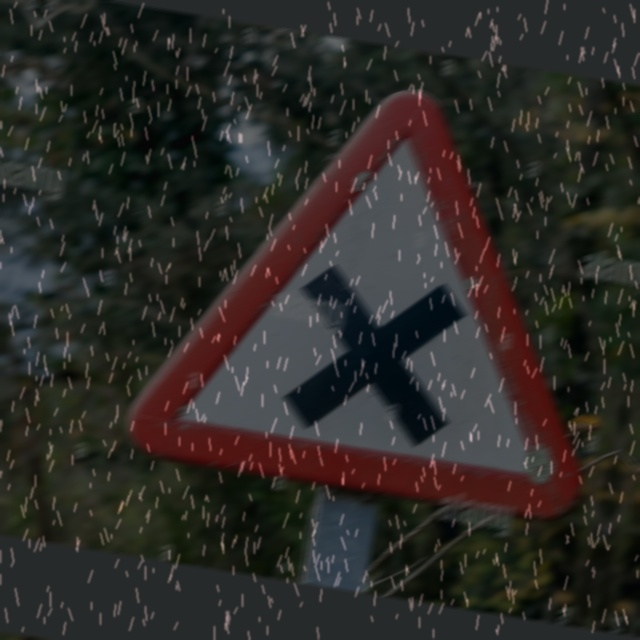Cross_Road: (131, 55, 636, 523)
